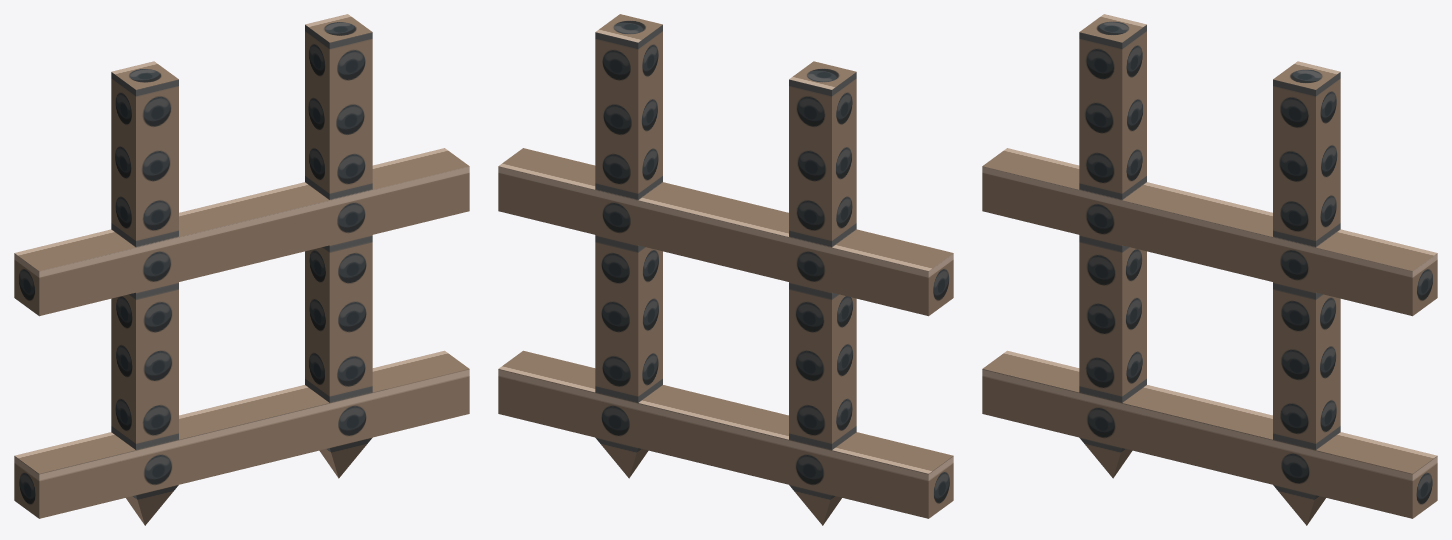
Rendered from PortcullisBottom_v1.0.fbx.
3 renders of one model, left to right at view 1: azimuth 30°, elevation 25°; view 2: azimuth 150°, elevation 25°; view 3: azimuth 330°, elevation 25°, orthographic.
Parts seen in each view (by area): view 1: Tile_Main.072; view 2: Tile_Main.072; view 3: Tile_Main.072.
Part boxes in pixels (left/top/right/bottom): Tile_Main.072: left=14, top=14, right=469, bottom=525; Tile_Main.072: left=498, top=14, right=953, bottom=525; Tile_Main.072: left=982, top=14, right=1437, bottom=525.
Size of the model in its own units: 100 by 10 by 100.
